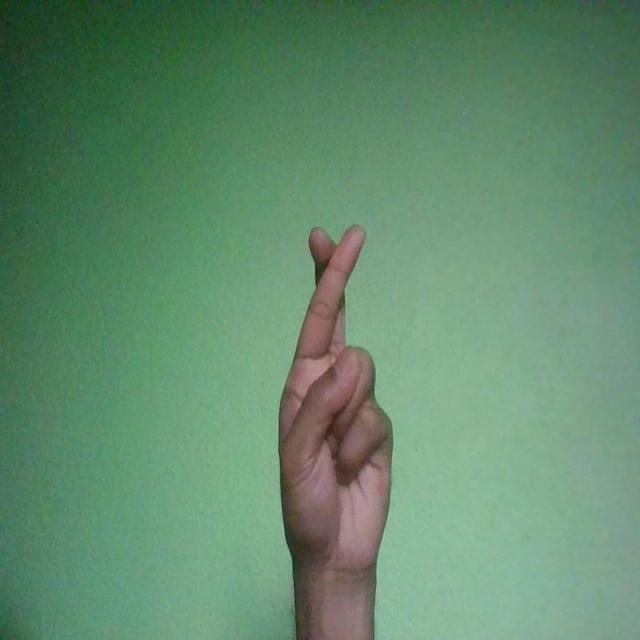Ok: (277, 224, 394, 589)
